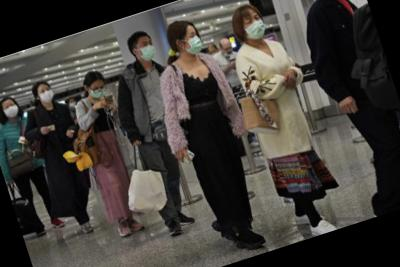mask_weared_incorrect: (223, 44, 237, 58)
with_mask: (241, 12, 269, 43), (181, 30, 205, 58), (134, 38, 159, 64), (37, 85, 56, 104), (1, 102, 21, 120), (89, 83, 109, 100), (69, 99, 79, 109)
